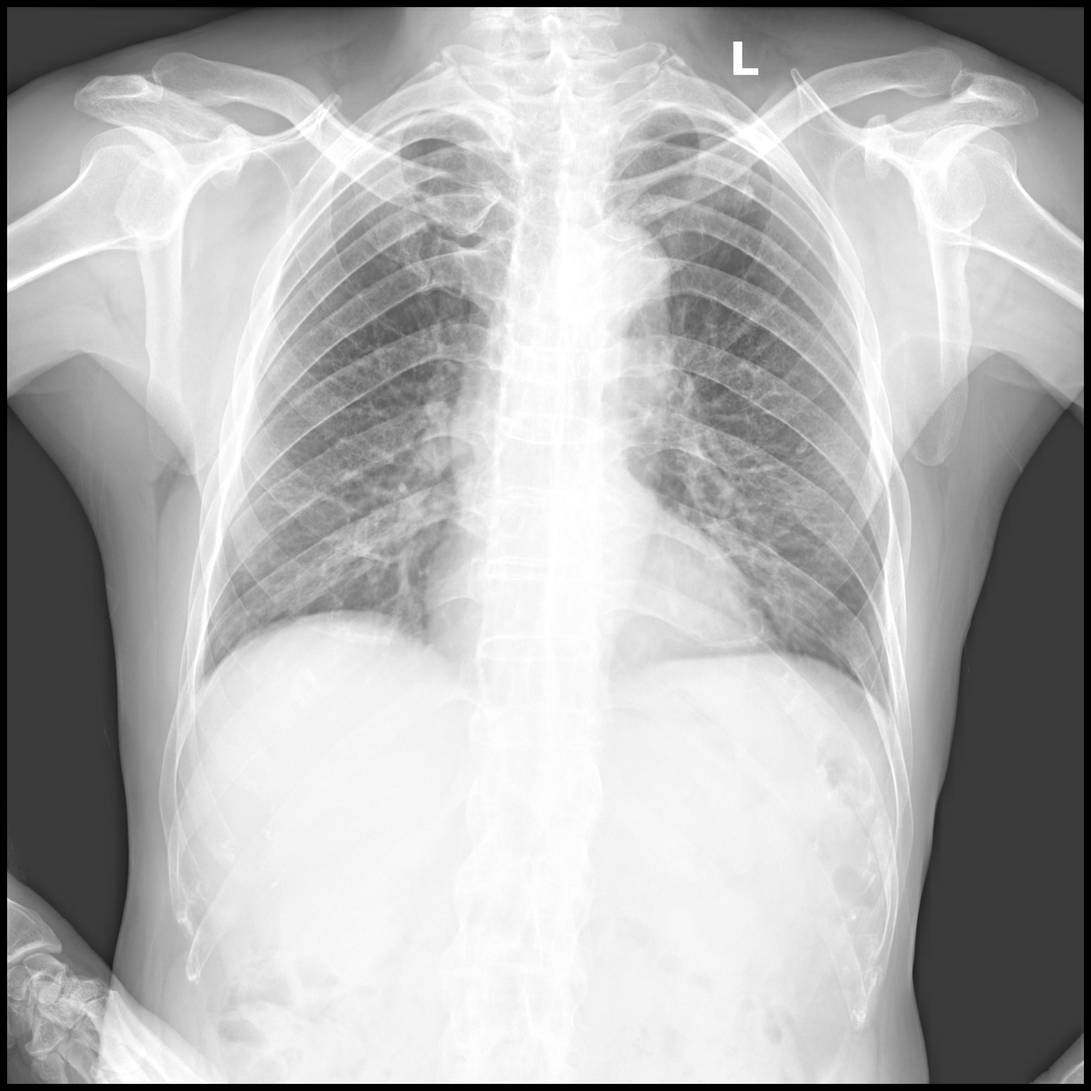Aortic enlargement: (551, 218, 675, 342)
Cardiomegaly: (421, 559, 779, 681)
